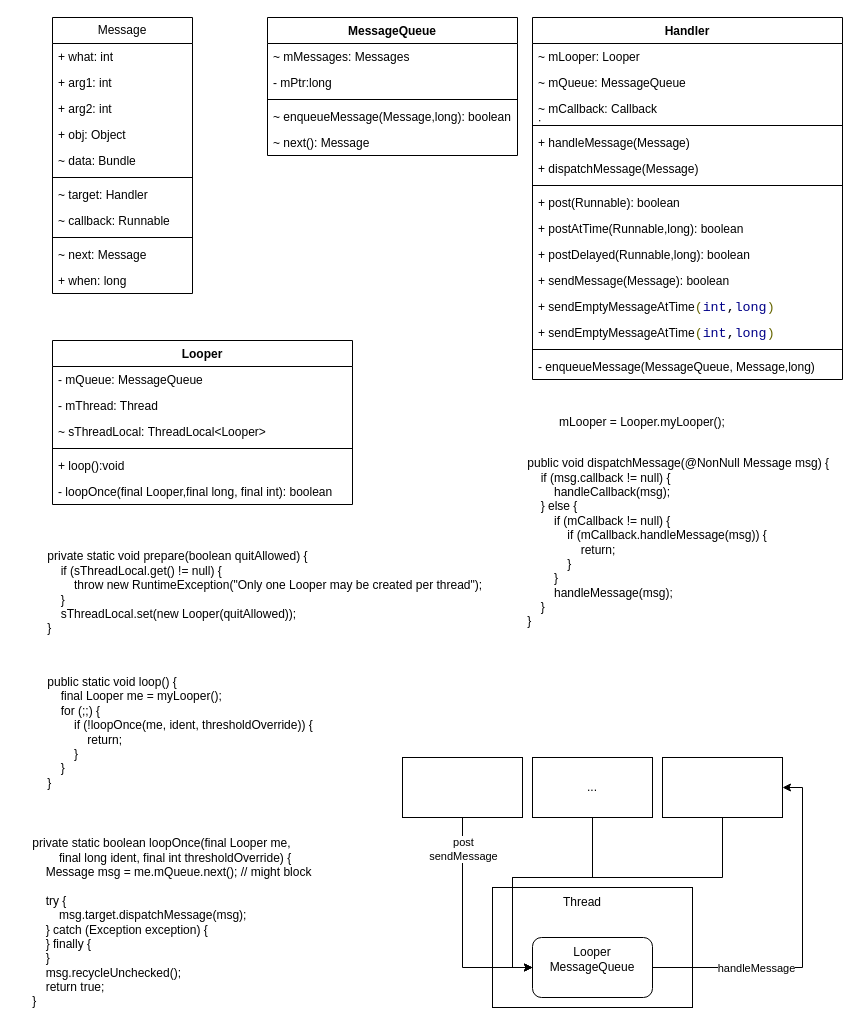
This 860x1035 diagram has some shape labels left out. The shapes that lost their labels are listed below. From the top down, each one's centre as x and y in pixels, then its label:
the point at 462,787: Handler1
the point at 722,787: Handler_n
